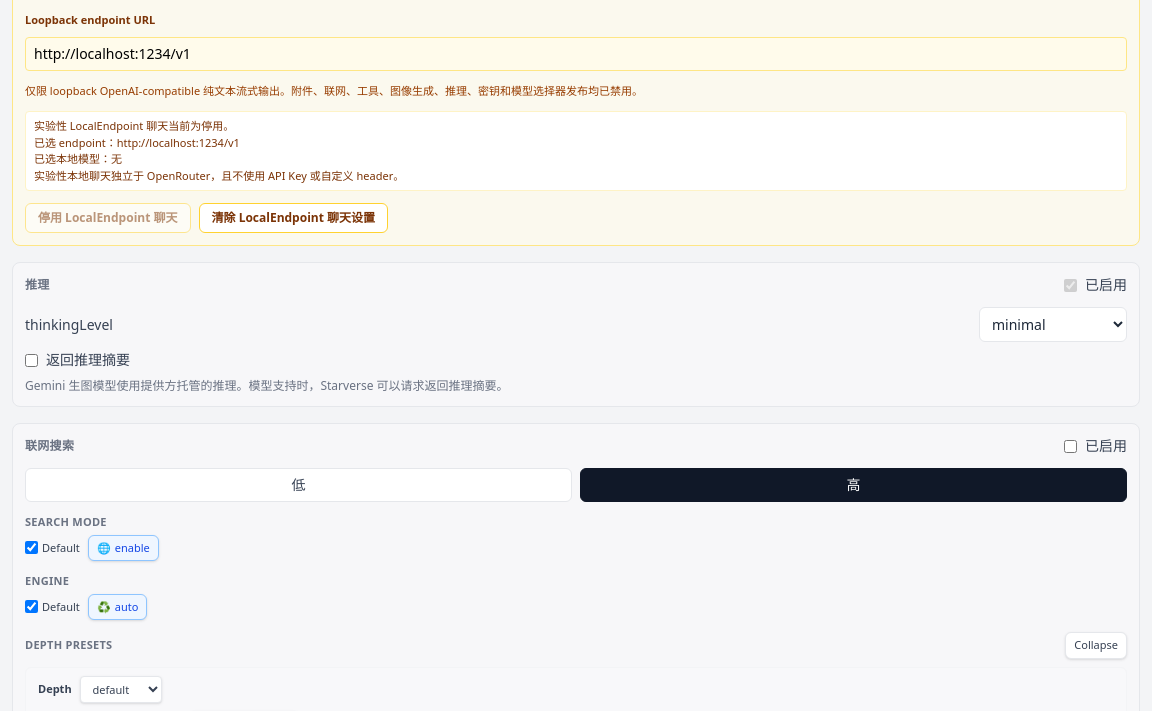
ChatSessionConsole Google AI Studio chat controls › uses managed Gemini image thinking controls and model-specific image sizes for Nano Banana 2 Lite
The width and height of the screenshot is (1152, 711).
(page scrolled)
Check: the checkbox with test id "session-reasoning-enabled" is disabled, box [1064, 278, 1077, 292]
Check: the dropdown with test id "session-google-thinking-level" shows "minimal", box [979, 307, 1127, 342]
What coordinates should you click on to do the following:
click the checkbox with test id "session-google-thinking-include-thoughts"
I would click on:
 (32, 360)
Its box is [25, 354, 38, 366].
(page scrolled)
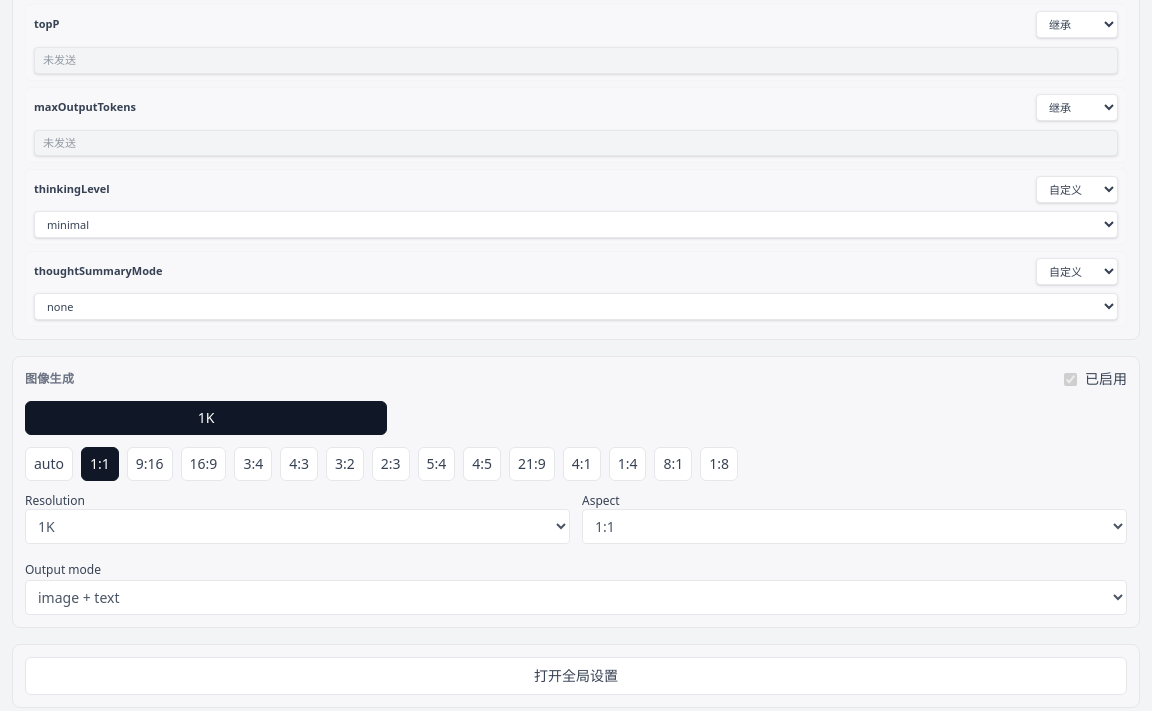
Check: the button "1K" is shown, box [25, 401, 387, 435]
